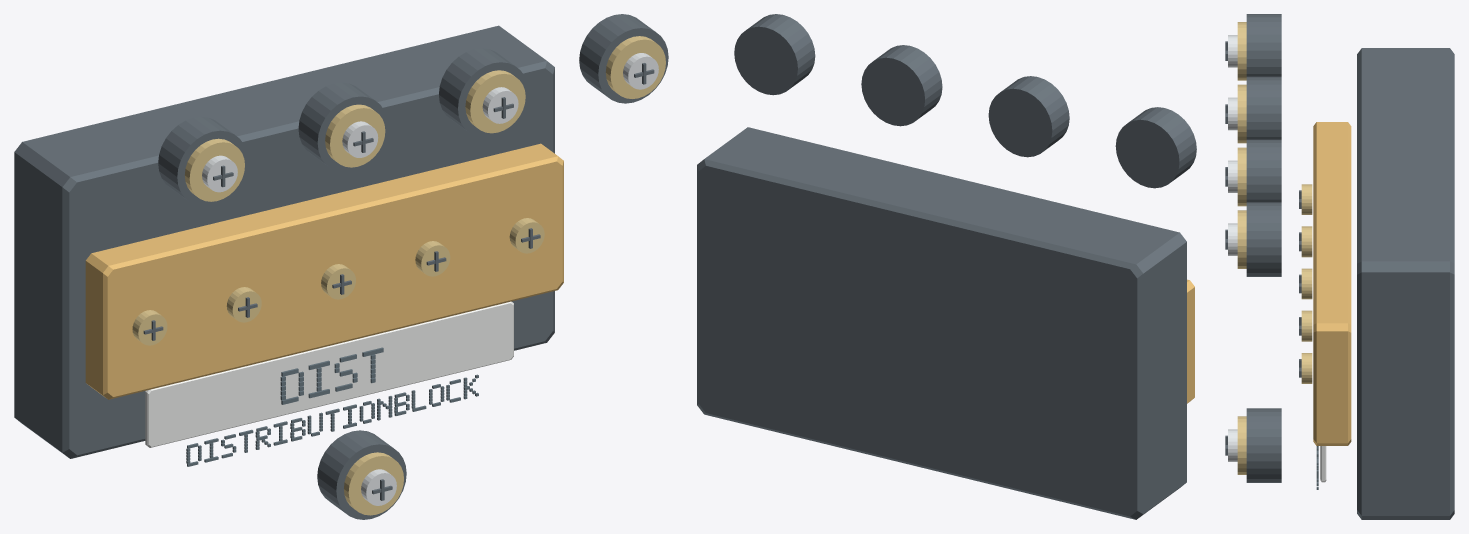
The model's file is distributionBlock.glb.
The picture shows the model from 3 angles, left to right: view 1: azimuth 30°, elevation 25°; view 2: azimuth 150°, elevation 25°; view 3: azimuth 270°, elevation 25°; orthographic projection. The views are drawn at different scales.
Parts seen in each view (by area): view 1: distributionBlock-detailed; view 2: distributionBlock-detailed; view 3: distributionBlock-detailed.
Part boxes in pixels (<box>): distributionBlock-detailed: <box>14,14,668,519</box>; distributionBlock-detailed: <box>697,14,1196,519</box>; distributionBlock-detailed: <box>1225,14,1454,519</box>.
Size of the model in its own units: 2.42 by 1.81 by 0.9644.
